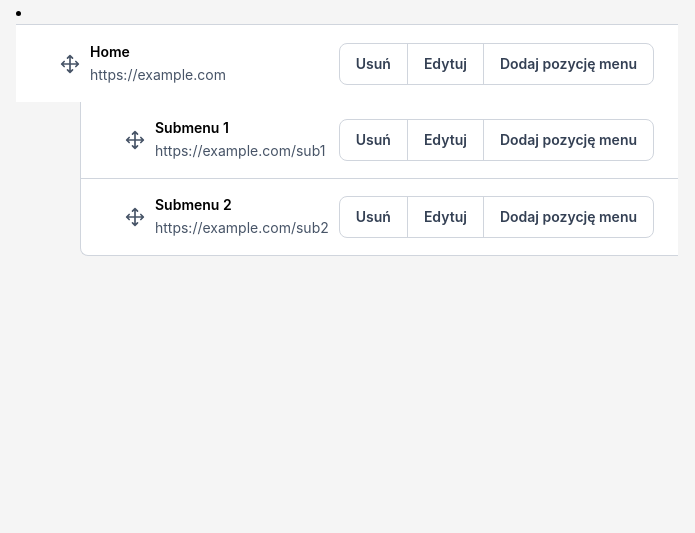
Test: SortableMenuItem › opens add form when "Dodaj pozycję menu" button is clicked
The image size is (695, 533).
Click the 1st button "Dodaj pozycję menu" at (568, 64), box [484, 44, 653, 84]
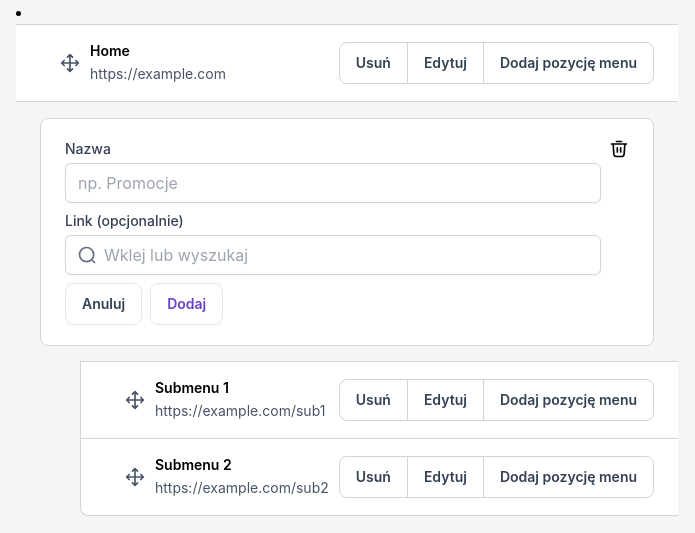
Now the text "Nazwa" is shown, box [65, 140, 111, 157]
Now the text "Link (opcjonalnie)" is shown, box [65, 212, 184, 229]
Now the button "Anuluj" is shown, box [65, 283, 142, 325]
